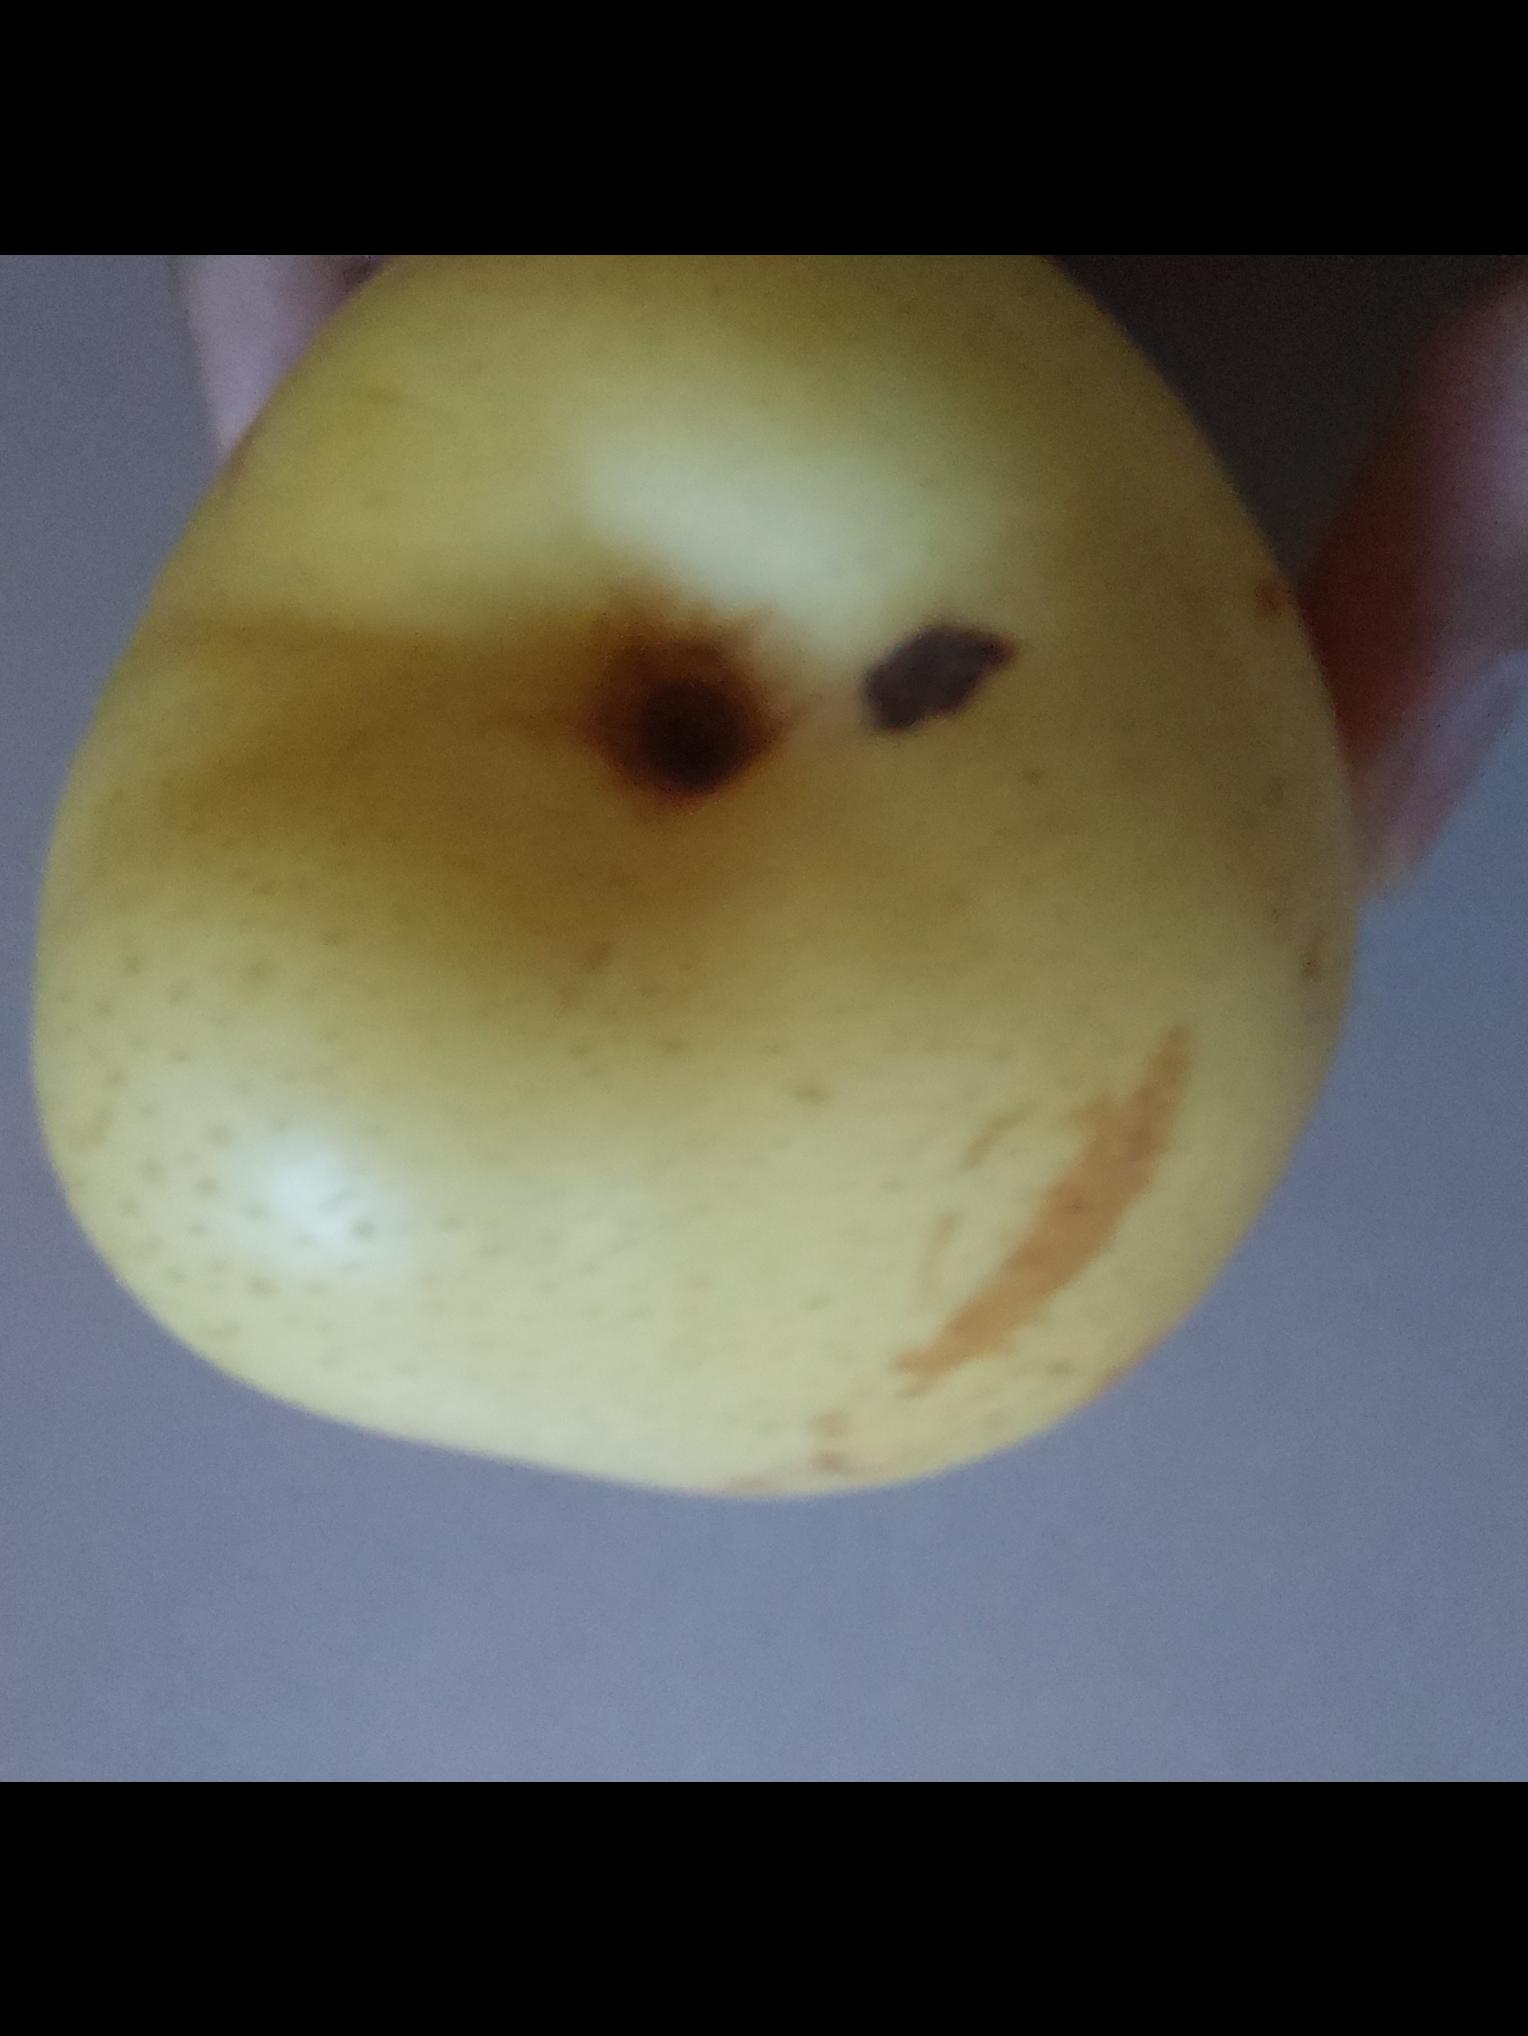Good Pear: (31, 254, 1365, 1503)
